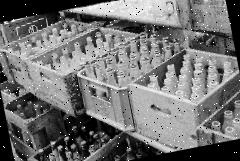glass: (79, 24, 186, 94), (142, 45, 237, 110), (34, 26, 136, 76), (6, 17, 93, 60), (33, 119, 115, 161)
